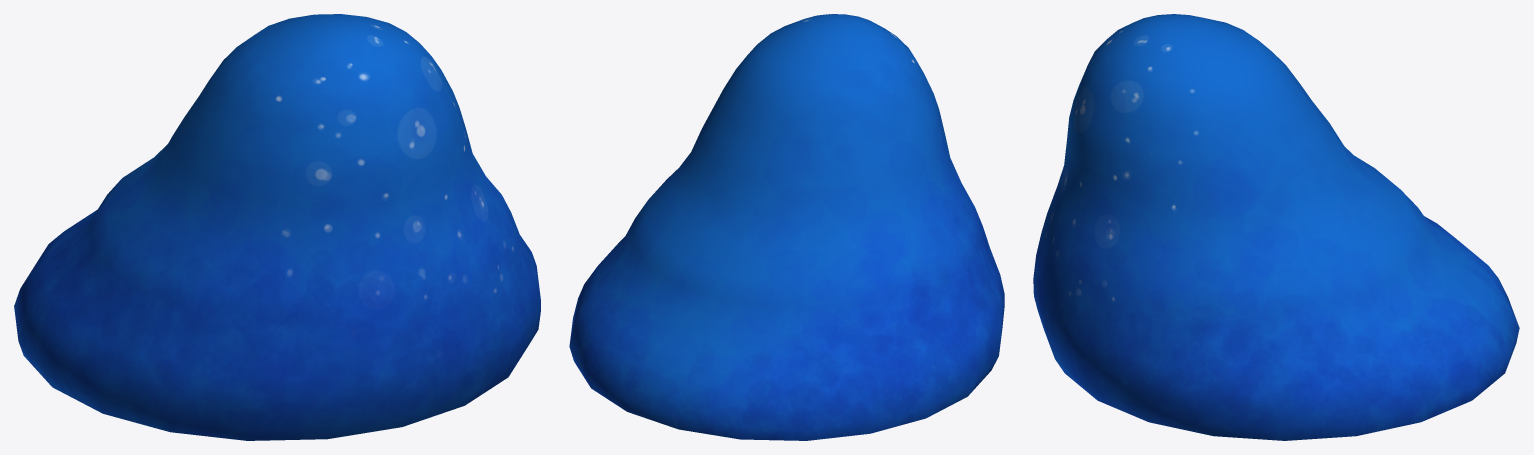
Rendered from BigBlue_K1.fbx.
3 renders of one model, left to right at view 1: azimuth 30°, elevation 25°; view 2: azimuth 150°, elevation 25°; view 3: azimuth 270°, elevation 25°, orthographic. The views are drawn at different scales.
Visible parts, largest first — view 1: Blue_Enemy; view 2: Blue_Enemy; view 3: Blue_Enemy.
Boxes of the visible parts, bbox=[...] form: Blue_Enemy: bbox=[14, 14, 540, 440]; Blue_Enemy: bbox=[569, 14, 1004, 440]; Blue_Enemy: bbox=[1033, 14, 1519, 440].
Size of the model in its own units: 11.99 by 8.85 by 12.24.
